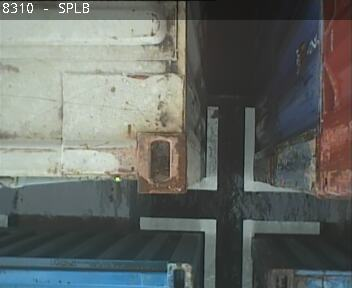groundmarker_1: (138, 214, 320, 288)
